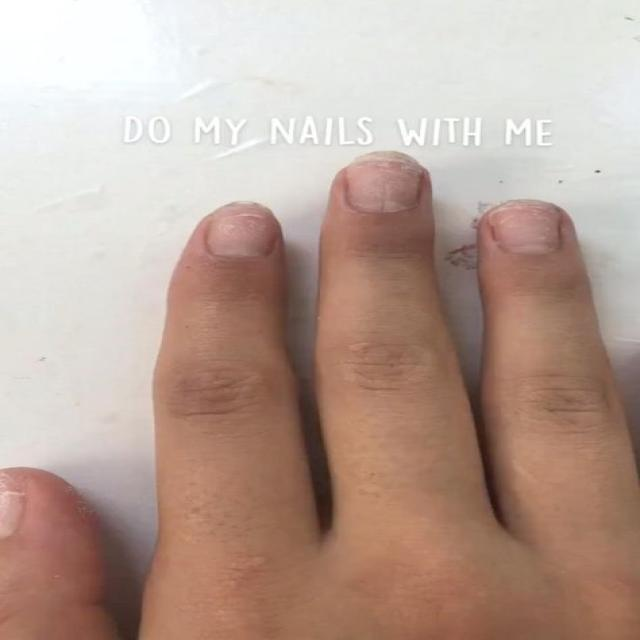Fingernail: (346, 158, 422, 213), (492, 203, 560, 254), (207, 212, 273, 257)
